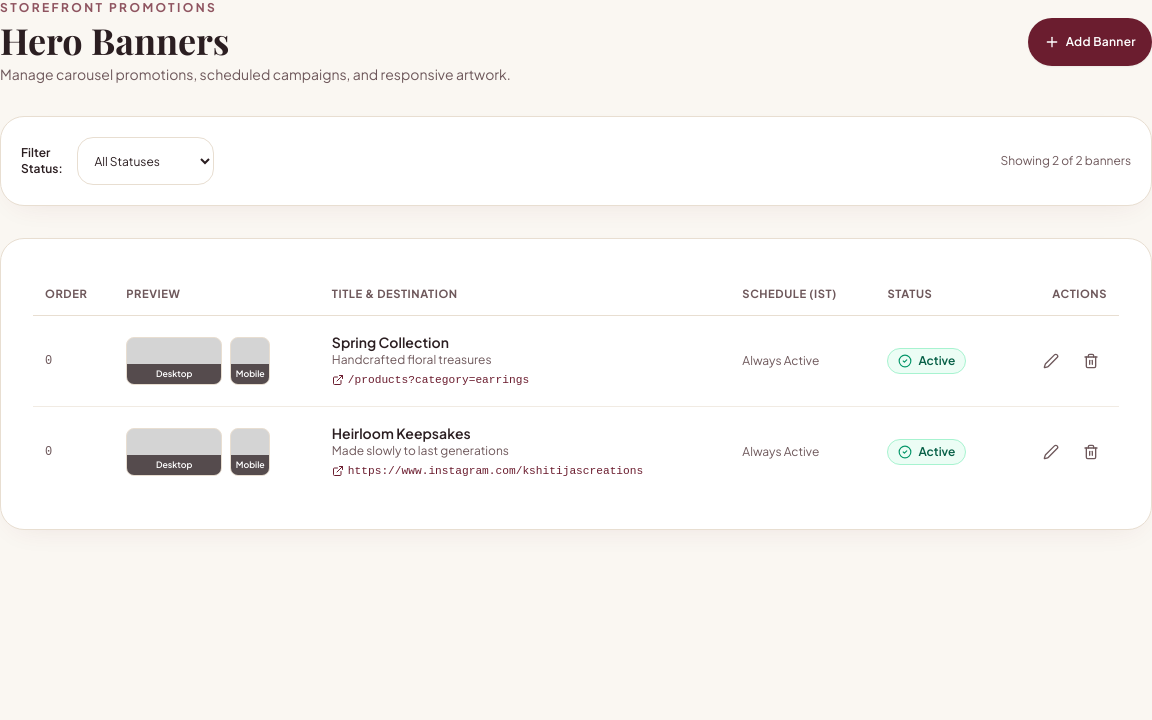
Scenario: AdminBannersPage › opens add banner modal with dimension instructions and validates required fields
Expected: the text "Spring Collection" is shown, top-left (332, 333), bottom-right (449, 351)
Click the button "Add Banner".
click(1090, 42)  # box top-left (1028, 18), bottom-right (1151, 66)
(page scrolled)
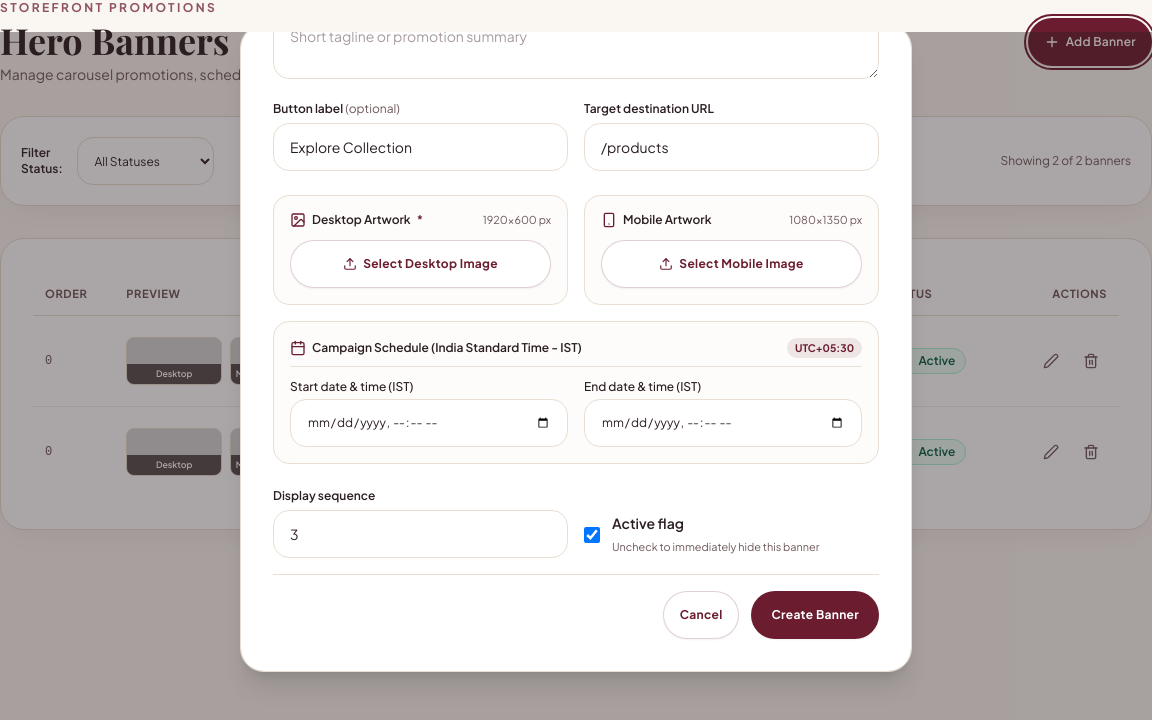
Expected: the dialog is shown, top-left (240, 32), bottom-right (912, 672)
# Submit without title or desktop image
Click the button "Create Banner".
click(815, 615)  # box top-left (752, 591), bottom-right (879, 639)
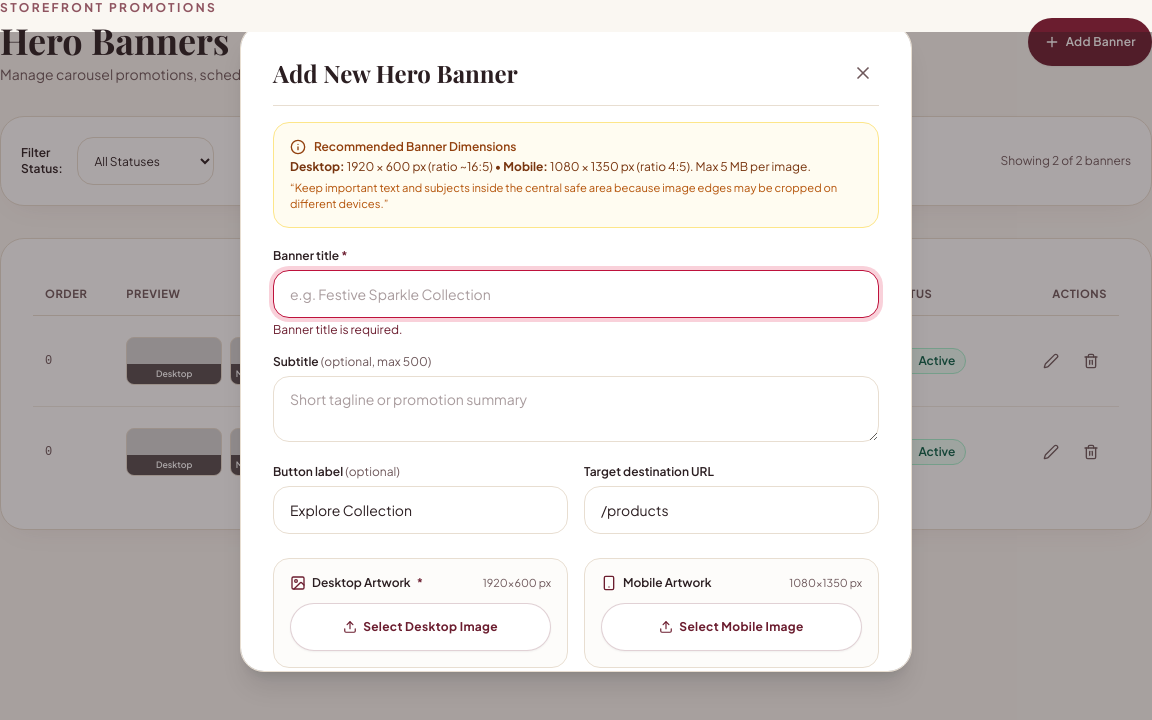
Expected: the text "Banner title is required." is shown, top-left (273, 322), bottom-right (402, 337)
